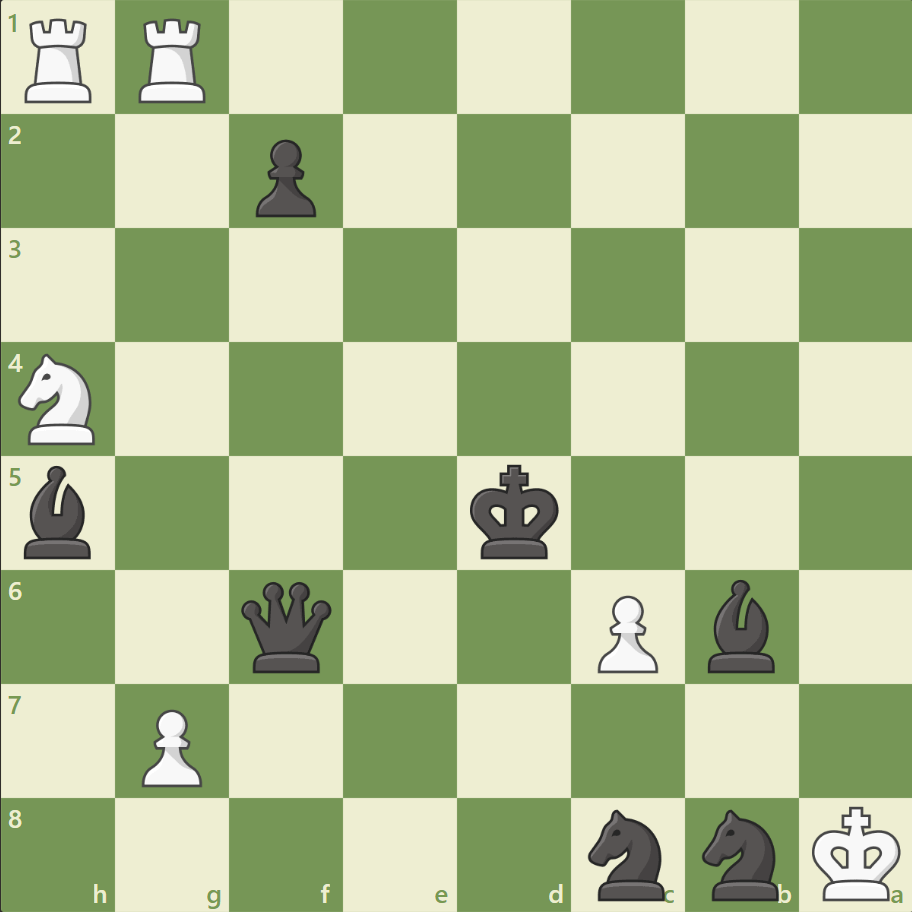K: (806, 798, 906, 906)
N: (11, 348, 108, 450)
P: (133, 700, 208, 791), (588, 586, 662, 677)
R: (19, 12, 102, 109), (133, 12, 215, 109)
b: (17, 460, 101, 563), (698, 574, 782, 676)
k: (465, 458, 565, 566)
n: (692, 802, 789, 904), (579, 802, 676, 904)
p: (247, 132, 322, 223)
q: (237, 576, 336, 676)
